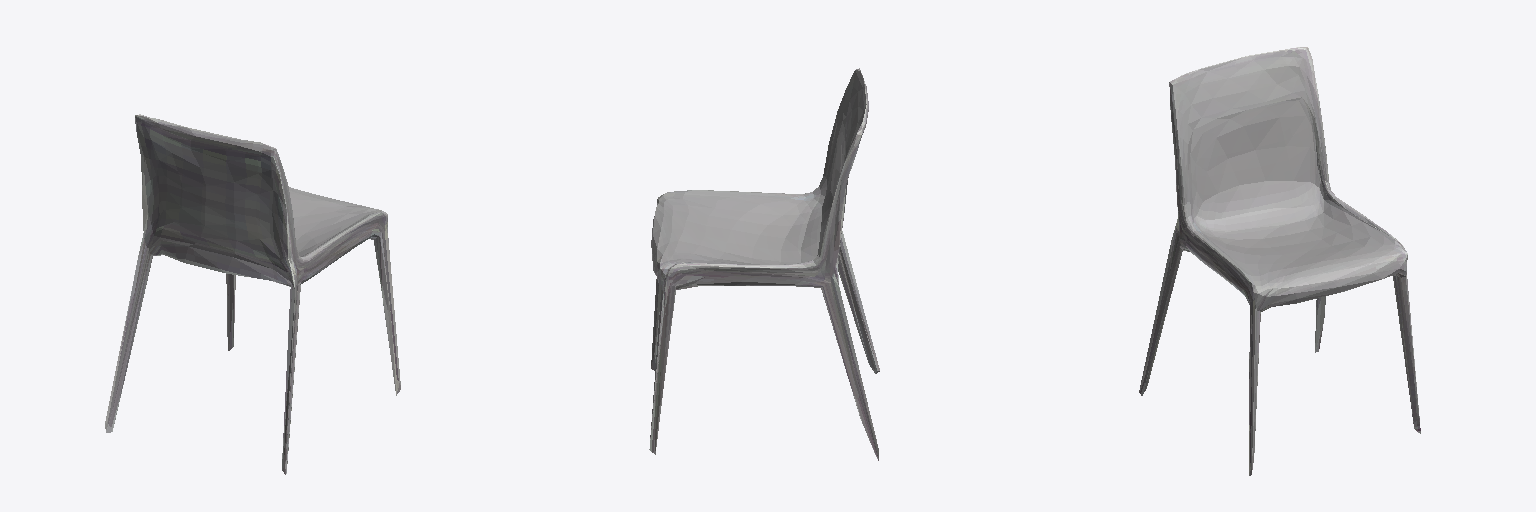
3 renders of one model, left to right at view 1: azimuth 30°, elevation 25°; view 2: azimuth 150°, elevation 25°; view 3: azimuth 270°, elevation 25°, orthographic.
Size of the model in its own units: 0.8578 by 1 by 0.799.
1 materials, 1 textured.